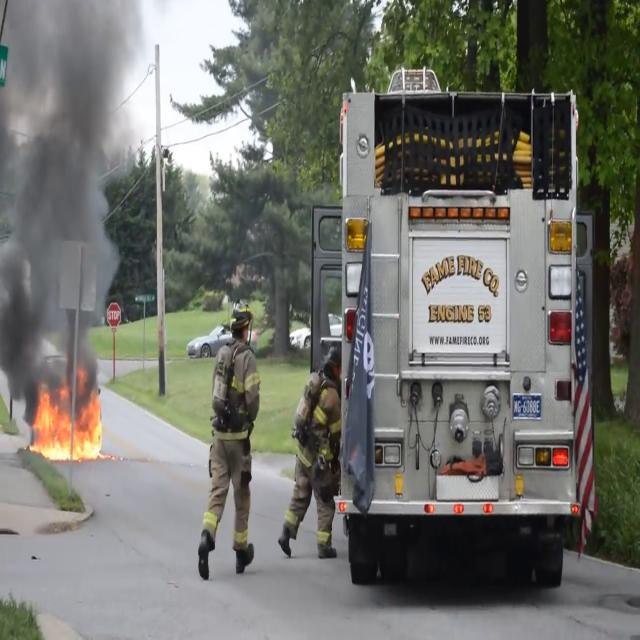Fire: (32, 380, 104, 466)
Smoke: (0, 0, 126, 392)
